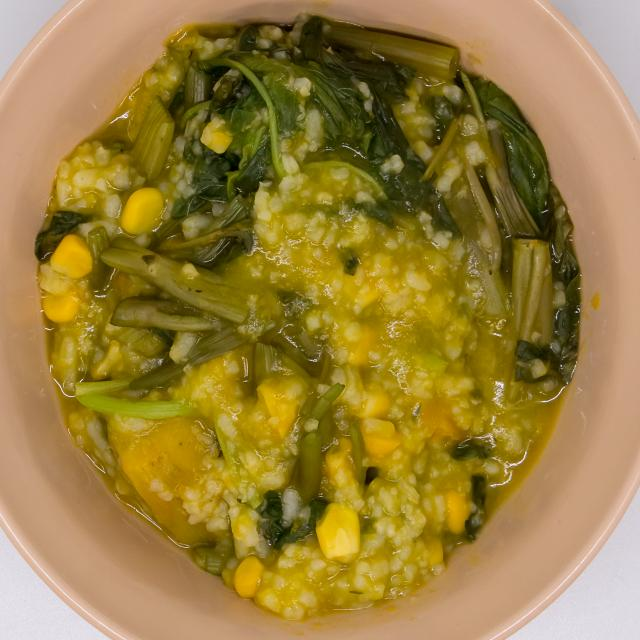Bubur-Manado: (29, 8, 593, 628)
